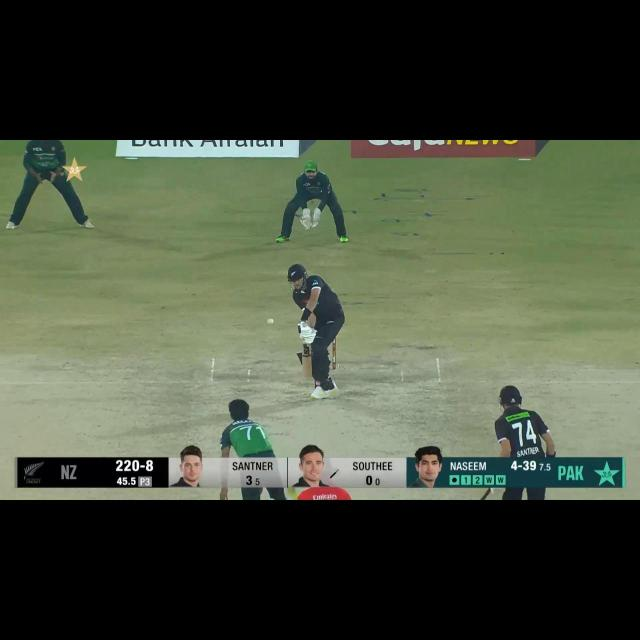bat: (298, 342, 314, 381)
toe: (302, 367, 311, 378)
